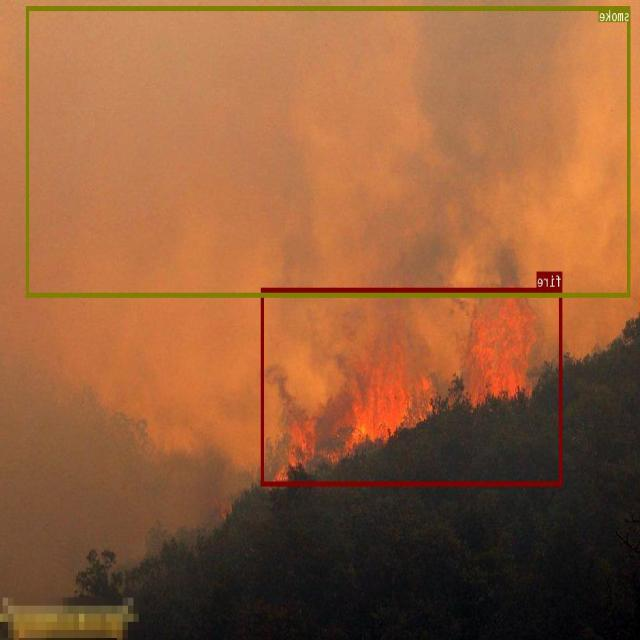fire: (262, 287, 562, 485)
smoke: (27, 5, 631, 296)
